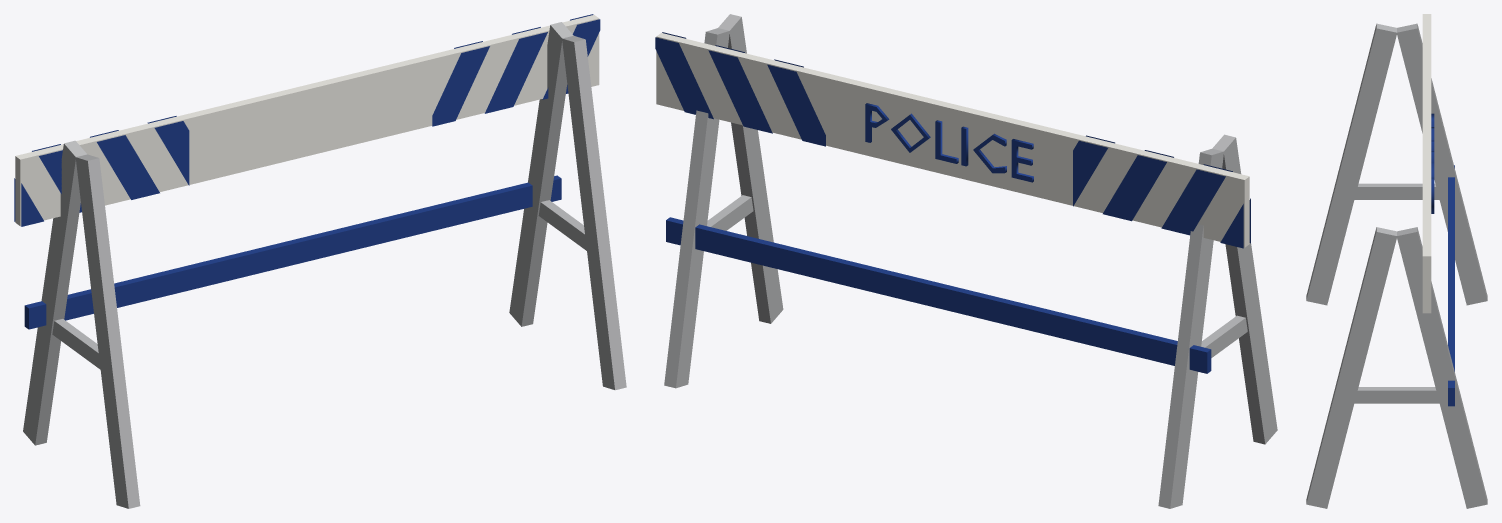
File: barrier_police.glb
The picture shows the model from 3 angles, left to right: view 1: azimuth 30°, elevation 25°; view 2: azimuth 150°, elevation 25°; view 3: azimuth 270°, elevation 25°; orthographic projection. The views are drawn at different scales.
Visible parts, largest first — view 1: barrier_police__mesh; view 2: barrier_police__mesh; view 3: barrier_police__mesh.
Part boxes in pixels (bbox=[...]): barrier_police__mesh: bbox=[14, 14, 626, 508]; barrier_police__mesh: bbox=[655, 14, 1277, 508]; barrier_police__mesh: bbox=[1306, 14, 1487, 508].
Bounding box in the file's own units: 2 × 1.07 × 0.633.
1 material, 1 textured.
